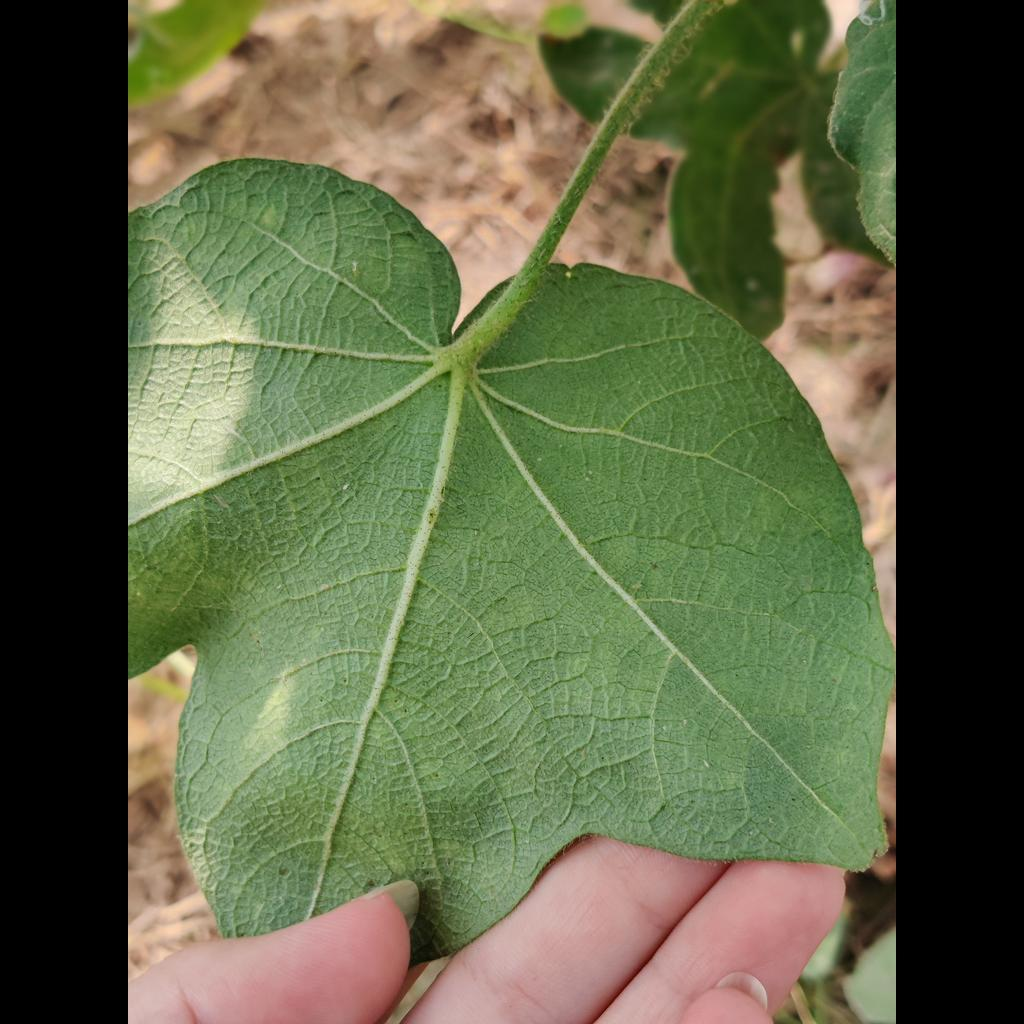nymph: (631, 580, 643, 589), (702, 759, 711, 768), (351, 262, 358, 272), (565, 271, 572, 279), (682, 718, 689, 726), (343, 485, 349, 491)
